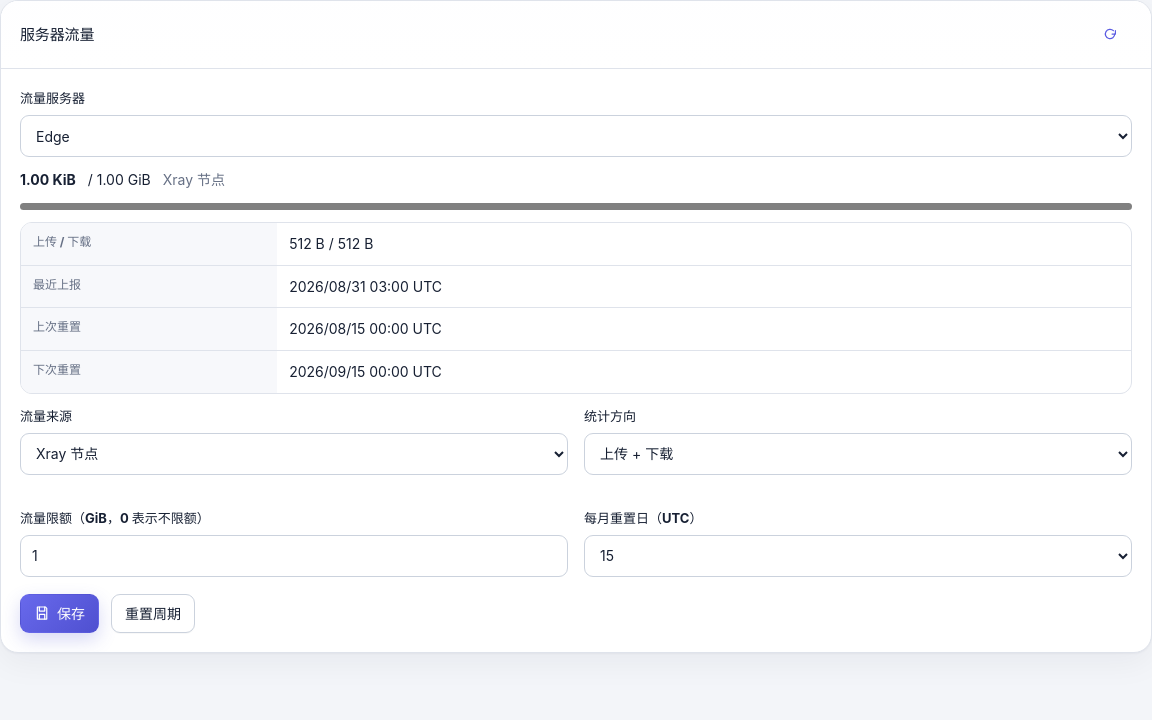
Test: React server traffic settings › requires an explicit cycle-reset dialog and preserves historical-counter warning
Click the button "重置周期": click(153, 613) 111,594 -> 195,633
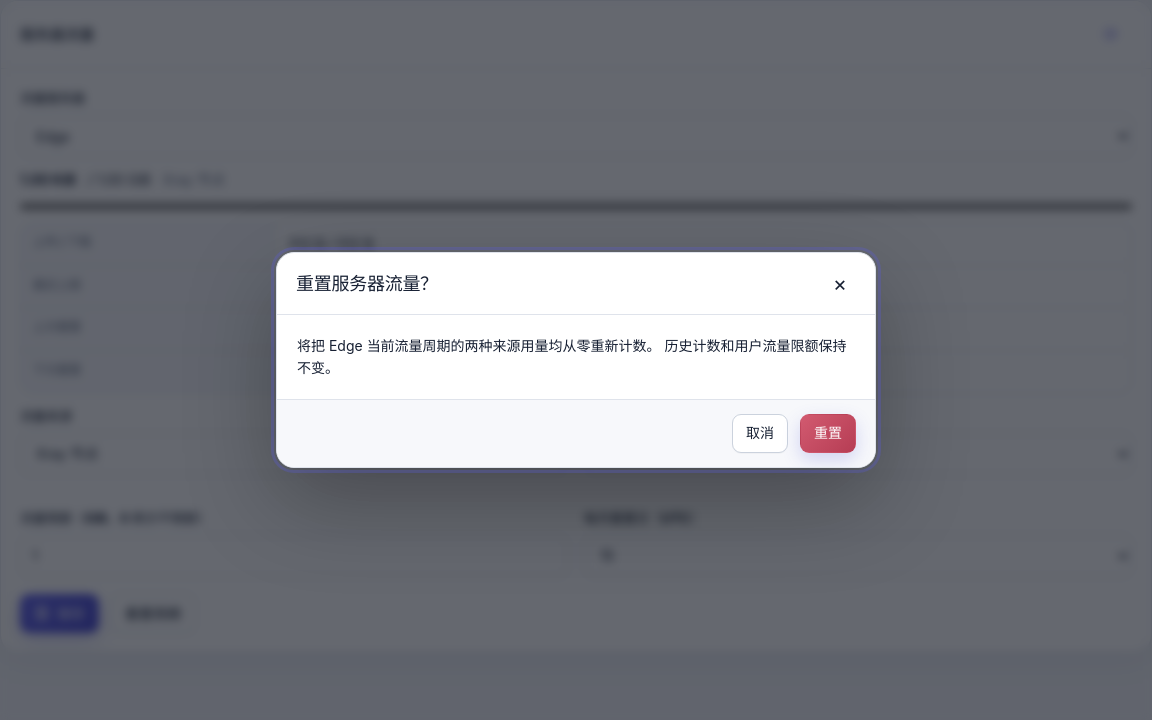
Now the text "将把 Edge 当前流量周期的两种来源用量均从零重新计数。 历史计数和用户流量限额保持不变。" is shown, box 297,337 -> 847,376
Click the button "重置": click(828, 433) 800,414 -> 856,453
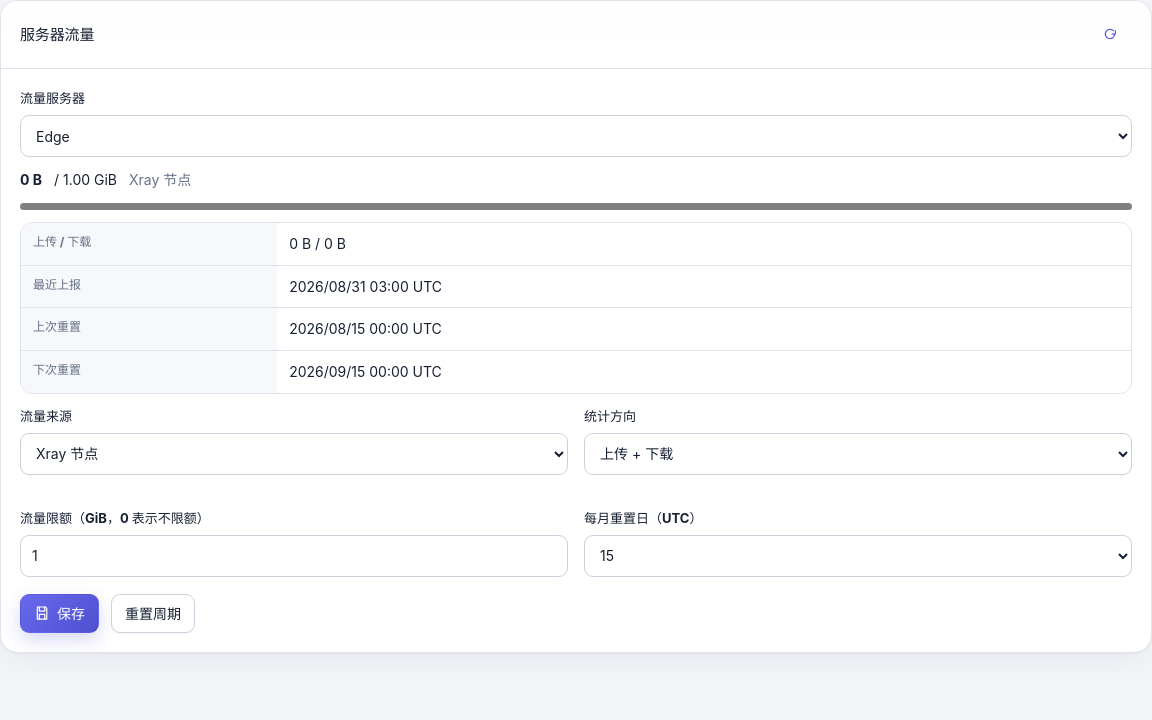
Now the text with test id "server-traffic-used" reads "0 B", box 20,171 -> 42,188
